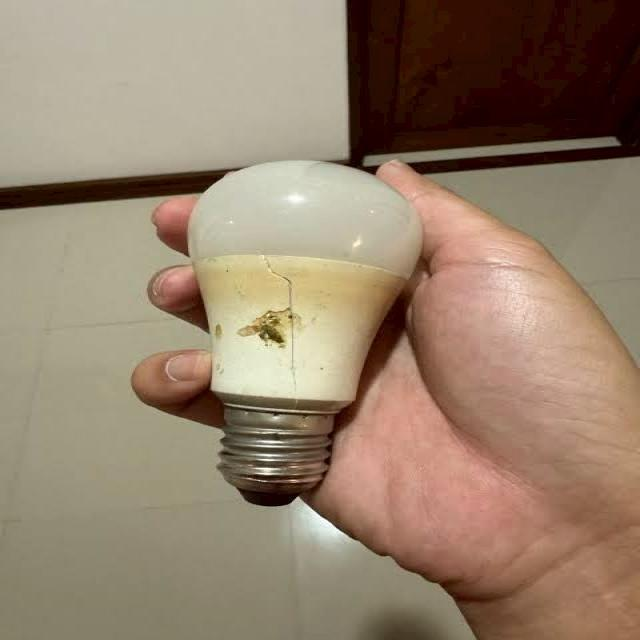bulb: (174, 162, 416, 514)
